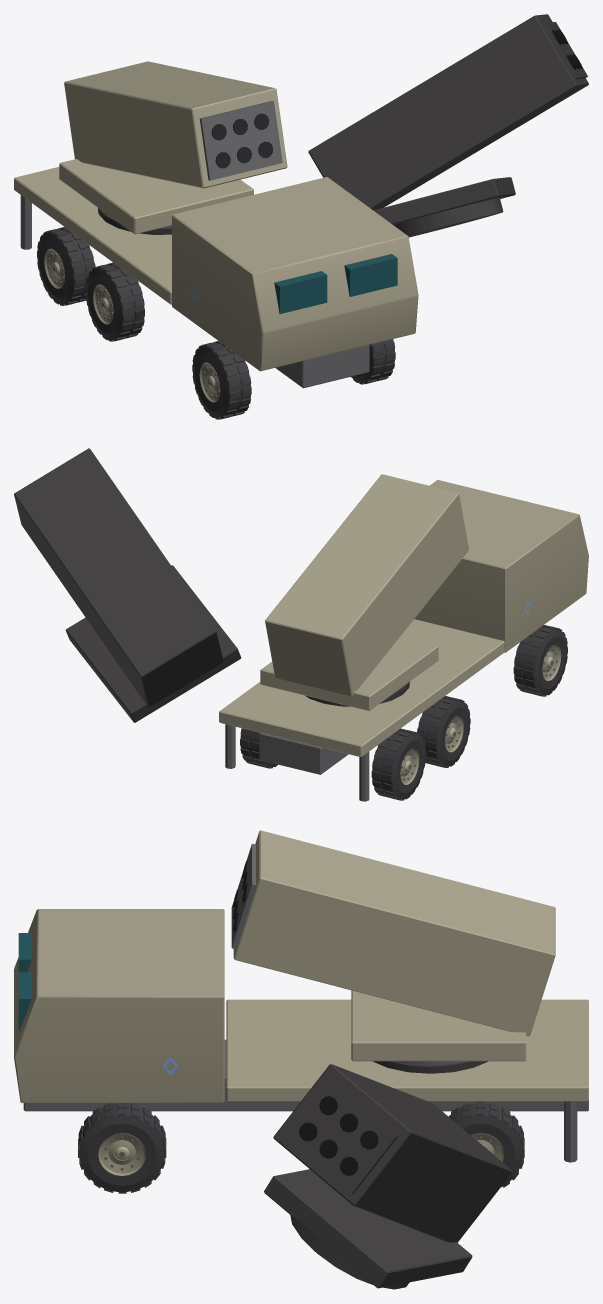
The model's file is himars__m142_himars.glb.
The picture shows the model from 3 angles, top to bottom: view 1: azimuth 30°, elevation 25°; view 2: azimuth 150°, elevation 25°; view 3: azimuth 270°, elevation 25°; orthographic projection. The views are drawn at different scales.
Visible parts, largest first — view 1: Hull_Mesh, Wreck, Gun_Mesh, Turret_Mesh, Wheel_L1_Mesh, Wheel_L2_Mesh, Wheel_L0_Mesh, Wheel_R2_Mesh; view 2: Hull_Mesh, Wreck, Gun_Mesh, Turret_Mesh, Wheel_L0_Mesh, Wheel_L2_Mesh, Wheel_L1_Mesh, Wheel_R0_Mesh; view 3: Hull_Mesh, Gun_Mesh, Wreck, Turret_Mesh, Wheel_R2_Mesh, Wheel_R0_Mesh.
Boxes of the visible parts, left/top/right/bottom form: Hull_Mesh: left=14, top=167, right=418, bottom=388; Wreck: left=40, top=14, right=588, bottom=412; Gun_Mesh: left=64, top=61, right=287, bottom=188; Turret_Mesh: left=59, top=159, right=253, bottom=234; Wheel_L1_Mesh: left=85, top=262, right=144, bottom=341; Wheel_L2_Mesh: left=192, top=341, right=251, bottom=419; Wheel_L0_Mesh: left=37, top=227, right=95, bottom=305; Wheel_R2_Mesh: left=351, top=339, right=395, bottom=384; Hull_Mesh: left=219, top=480, right=588, bottom=801; Wreck: left=14, top=448, right=550, bottom=734; Gun_Mesh: left=265, top=474, right=468, bottom=696; Turret_Mesh: left=260, top=636, right=438, bottom=711; Wheel_L0_Mesh: left=371, top=728, right=425, bottom=800; Wheel_L2_Mesh: left=513, top=625, right=567, bottom=696; Wheel_L1_Mesh: left=417, top=696, right=470, bottom=767; Wheel_R0_Mesh: left=240, top=728, right=277, bottom=768; Hull_Mesh: left=14, top=909, right=588, bottom=1162; Gun_Mesh: left=231, top=830, right=555, bottom=1036; Wreck: left=106, top=1061, right=512, bottom=1289; Turret_Mesh: left=351, top=990, right=526, bottom=1065; Wheel_R2_Mesh: left=78, top=1103, right=166, bottom=1193; Wheel_R0_Mesh: left=448, top=1101, right=524, bottom=1187.
Size of what is drawn, in the model's own units: 7.67 by 3.88 by 6.9.
